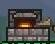furnace: (1, 1, 55, 44)
